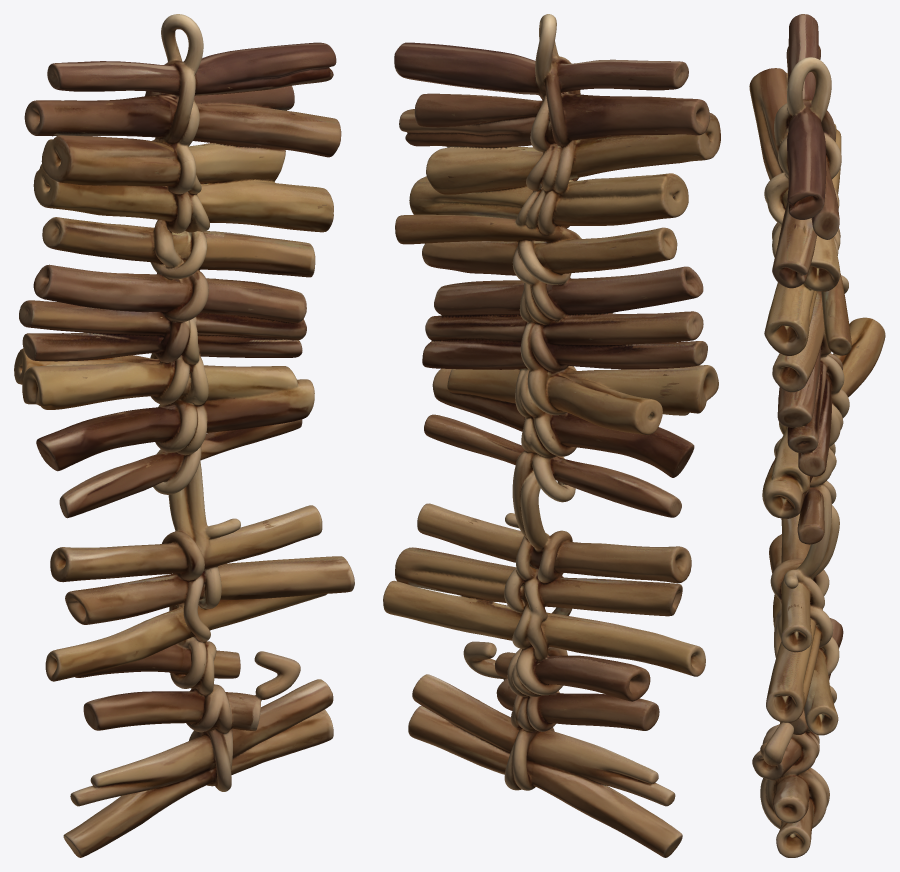
The model's file is Meshy_AI_Rope_Bound_Wooden_Lad_0312012810_texture.fbx.
3 renders of one model, left to right at view 1: azimuth 30°, elevation 25°; view 2: azimuth 150°, elevation 25°; view 3: azimuth 270°, elevation 25°, orthographic. The views are drawn at different scales.
Visible parts, largest first — view 1: Mesh_0; view 2: Mesh_0; view 3: Mesh_0.
Boxes of the visible parts, x1,y1,x2,y2 form: Mesh_0: (14, 14, 354, 857); Mesh_0: (383, 14, 720, 857); Mesh_0: (749, 14, 885, 857).
Size of the model in its own units: 75.96 by 190 by 29.59.
1 material, 1 textured.
